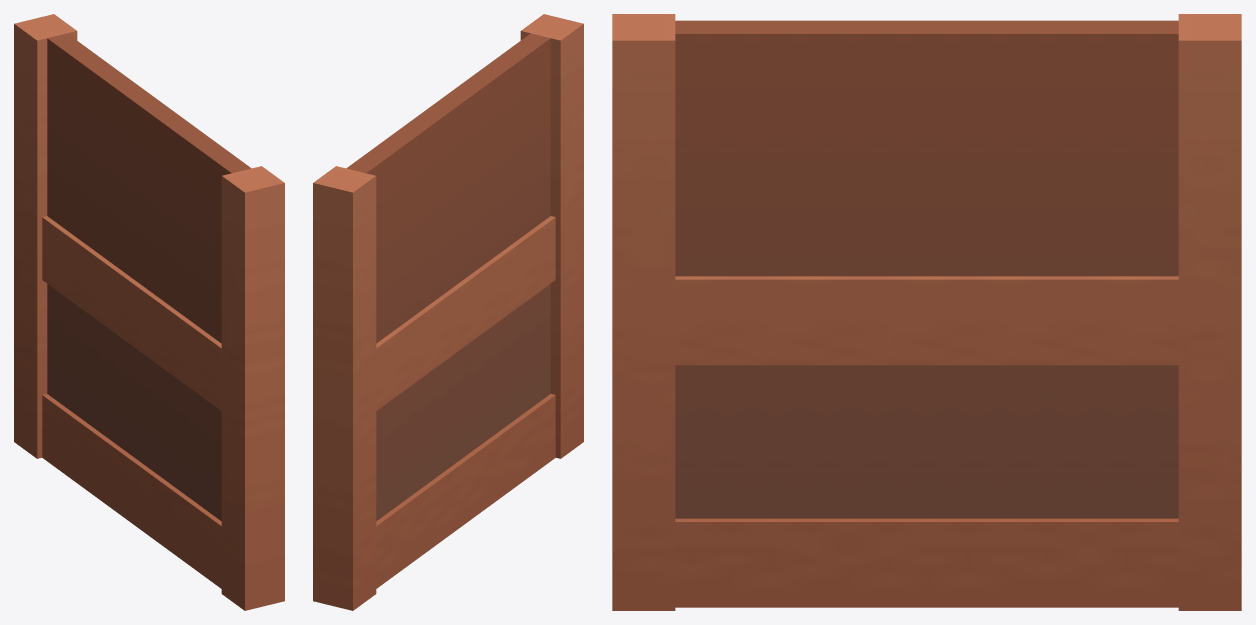
File: wallWoodDetailHorizontal.fbx
The picture shows the model from 3 angles, left to right: view 1: azimuth 30°, elevation 25°; view 2: azimuth 150°, elevation 25°; view 3: azimuth 270°, elevation 25°; orthographic projection. The views are drawn at different scales.
Visible parts, largest first — view 1: wallWoodDetailHorizontal; view 2: wallWoodDetailHorizontal; view 3: wallWoodDetailHorizontal.
Part boxes in pixels (x1=…): wallWoodDetailHorizontal: x1=14, y1=14, x2=284, y2=610; wallWoodDetailHorizontal: x1=313, y1=14, x2=583, y2=610; wallWoodDetailHorizontal: x1=612, y1=14, x2=1241, y2=610.
Bounding box in the file's own units: 0.1 × 1 × 1.
